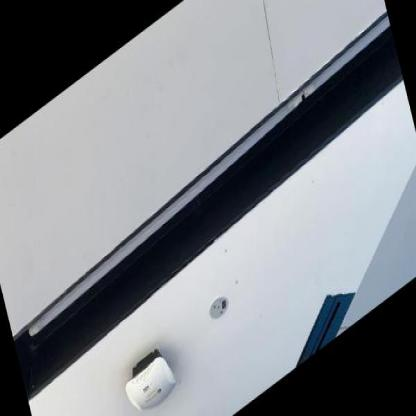light_off: (0, 0, 408, 387)
